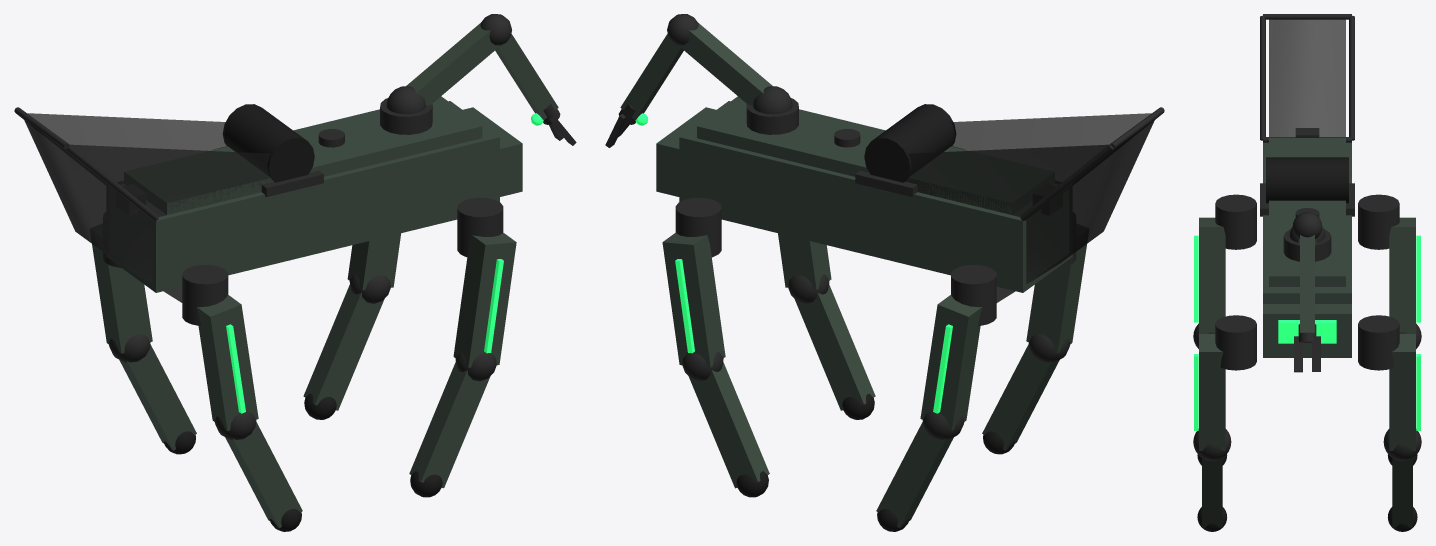
The model's file is cleanwalker-cw1.glb.
3 views of the same model, side by side, from view 1: azimuth 30°, elevation 25°; view 2: azimuth 150°, elevation 25°; view 3: azimuth 270°, elevation 25° (orthographic). The views are drawn at different scales.
Visible parts, largest first — view 1: Body, BagSystem, object 13, object 23, object 11, object 16, object 18, object 21, object 26, object 8, object 3, object 15 (+6 smaller); view 2: Body, BagSystem, object 8, object 18, object 16, object 11, object 23, object 21, object 26, object 13, object 3, object 10 (+6 smaller); view 3: Body, BagSystem, object 18, object 23, object 8, object 13, object 3, object 11, object 16, object 2, object 10, object 15 (+6 smaller).
Boxes of the visible parts, x1,y1,x2,y2 form: Body: (103,23,522,325); BagSystem: (14,104,323,302); object 13: (453,232,516,367); object 23: (197,295,258,431); object 11: (303,284,384,410); object 16: (409,362,490,488); object 18: (92,244,152,353); object 21: (119,344,196,450); object 26: (225,421,302,528); object 8: (347,233,400,290); object 3: (495,33,558,119); object 15: (455,352,496,381); Body: (656,23,1076,325); BagSystem: (855,104,1164,302); object 8: (662,232,725,367); object 18: (920,294,982,431); object 16: (794,284,875,410); object 11: (688,362,769,488); object 23: (1026,244,1086,353); object 21: (876,421,953,528); object 26: (982,344,1059,450); object 13: (778,233,831,290); object 3: (620,33,683,119); object 10: (682,352,723,381); Body: (1215,138,1399,370); BagSystem: (1260,14,1354,216); object 18: (1389,217,1415,333); object 23: (1199,217,1225,333); object 8: (1389,334,1415,450); object 13: (1199,334,1225,450); object 3: (1300,235,1314,332); object 11: (1392,457,1412,527); object 16: (1202,457,1222,527); object 2: (1292,212,1322,239); object 10: (1383,429,1421,460); object 15: (1193,429,1231,460).
Size of the model in its own units: 0.9247 by 0.6884 by 0.384.
